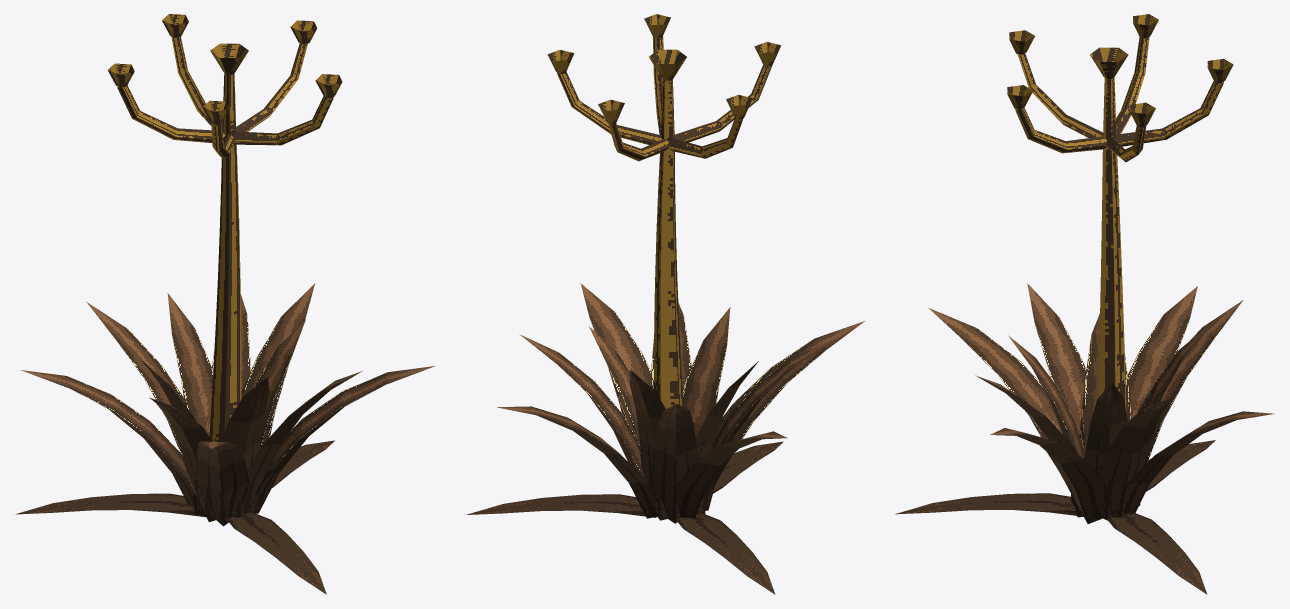
The model's file is FLO-01_Candelaria.gltf.
3 renders of one model, left to right at view 1: azimuth 30°, elevation 25°; view 2: azimuth 150°, elevation 25°; view 3: azimuth 270°, elevation 25°, orthographic.
Parts seen in each view (by area): view 1: FLO-01_Candelaria; view 2: FLO-01_Candelaria; view 3: FLO-01_Candelaria.
Part boxes in pixels (x1,y1,x2,y2): FLO-01_Candelaria: (16,14,434,594); FLO-01_Candelaria: (466,14,864,594); FLO-01_Candelaria: (895,14,1274,594).
Size of what is drawn, in the model's own units: 1.75 by 2.42 by 1.8.
1 material, 1 textured.
